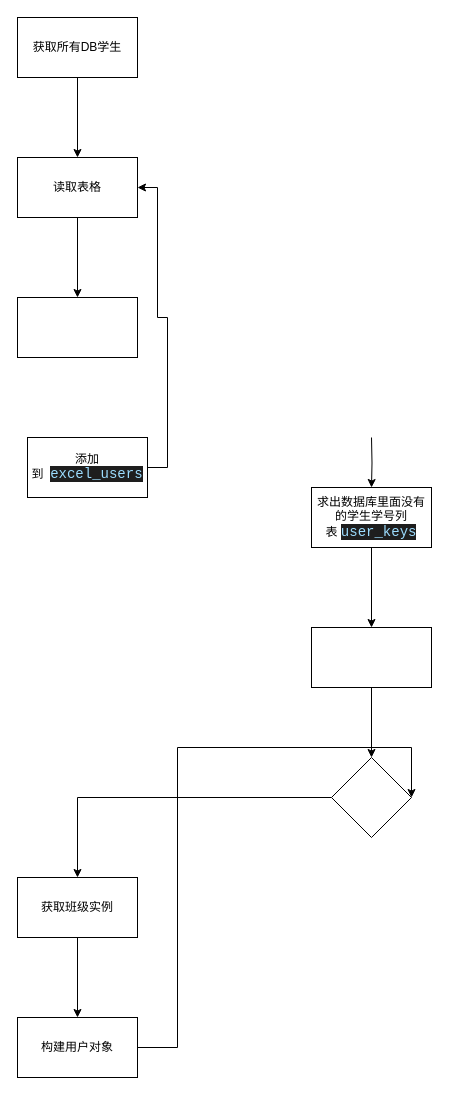
Some shapes in this 449 by 1095 pixel diagram are drawn without their labels. Each missing label, with the centre of its shape:
"add 班级列表" goes at [77,327].
"遍历" goes at [371,797].
"遍历 user_keys" goes at [371,657].
